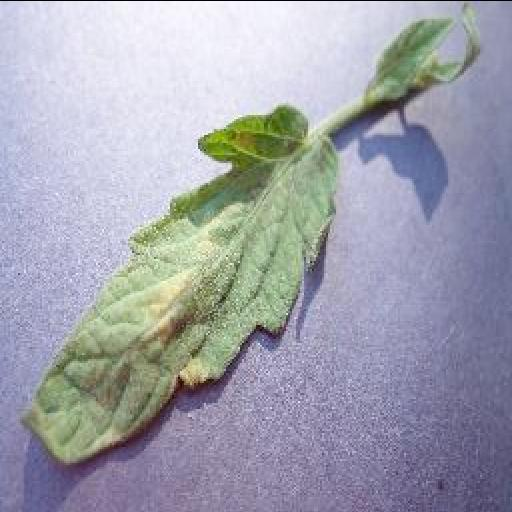disease_tomato: (20, 102, 338, 464)
